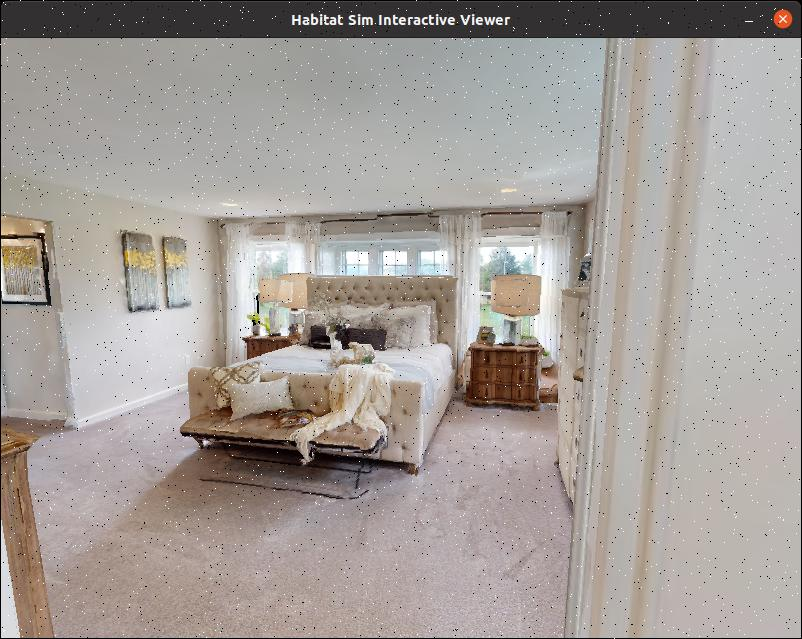bed: (175, 265, 472, 488)
door-frame: (0, 212, 86, 454)
